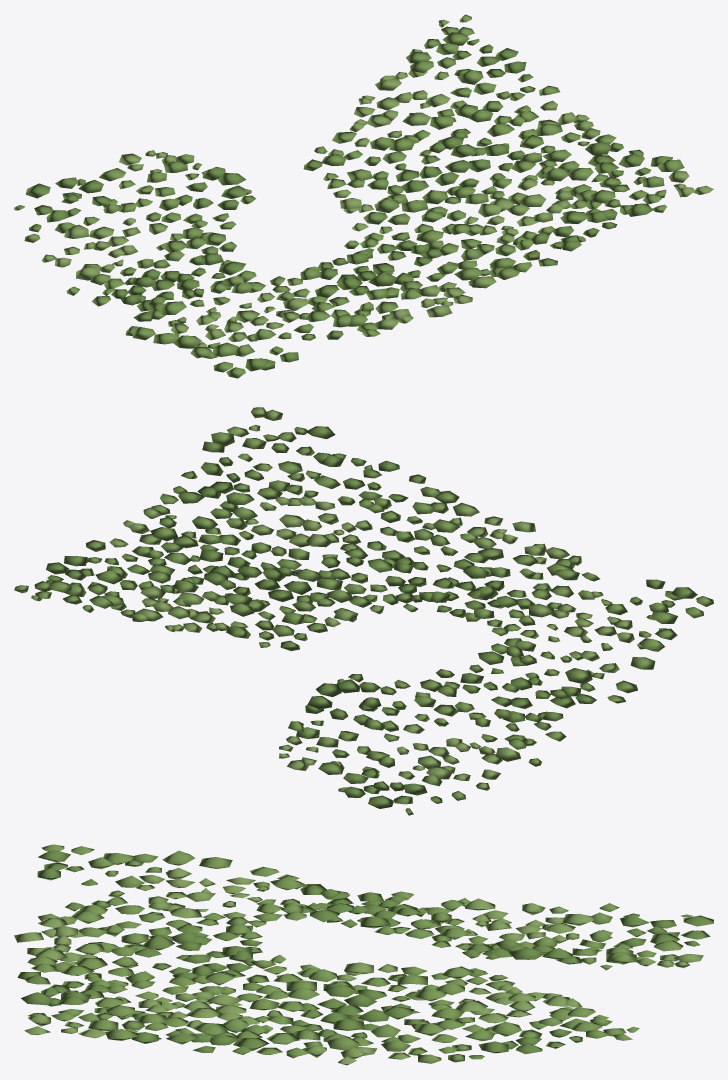
Rendered from canopy-1-0--6.glb.
3 views of the same model, one above another, from view 1: azimuth 30°, elevation 25°; view 2: azimuth 150°, elevation 25°; view 3: azimuth 270°, elevation 25° (orthographic). The views are drawn at different scales.
Size of the model in its own units: 518 by 128 by 520.
Materials: 1 (1 with a texture image).
